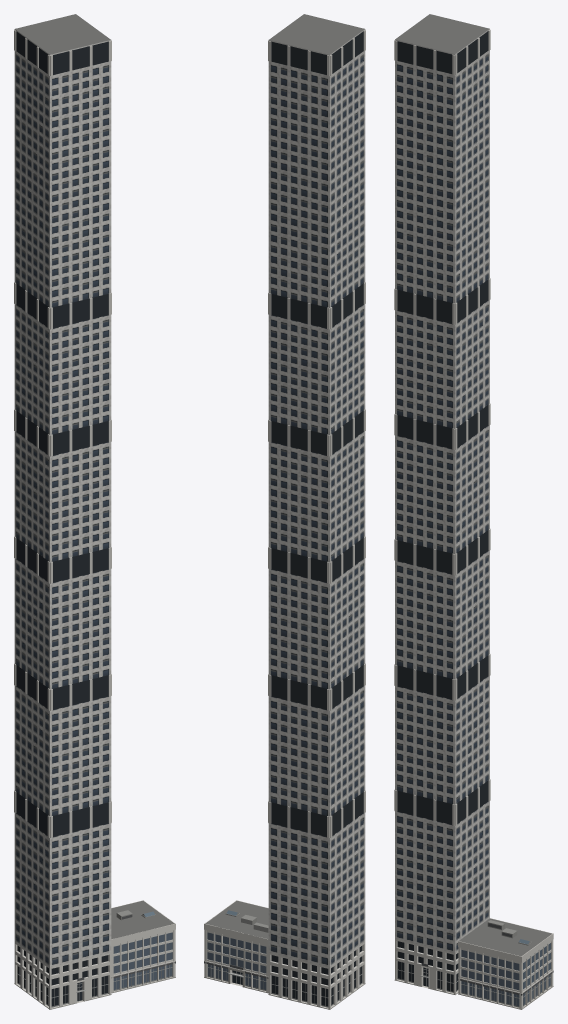
The model's file is park_avenue_432.glb.
3 renders of one model, left to right at view 1: azimuth 30°, elevation 25°; view 2: azimuth 150°, elevation 25°; view 3: azimuth 330°, elevation 25°, orthographic.
Parts seen in each view (by area): view 1: park_avenue_432; view 2: park_avenue_432; view 3: park_avenue_432.
Boxes of the visible parts, x1,y1,x2,y2 form: park_avenue_432: (14,14,175,1009); park_avenue_432: (204,14,365,1009); park_avenue_432: (394,14,553,1009).
Size of the model in its own units: 59.73 by 426 by 29.19.
Materials: 2 (2 with a texture image).
